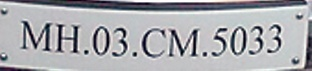character: (165, 25, 200, 58), (20, 18, 52, 53), (139, 26, 166, 59), (54, 22, 80, 54), (228, 26, 249, 56), (91, 24, 110, 57), (110, 26, 128, 57), (265, 22, 282, 54), (210, 26, 226, 58), (248, 25, 265, 55)
